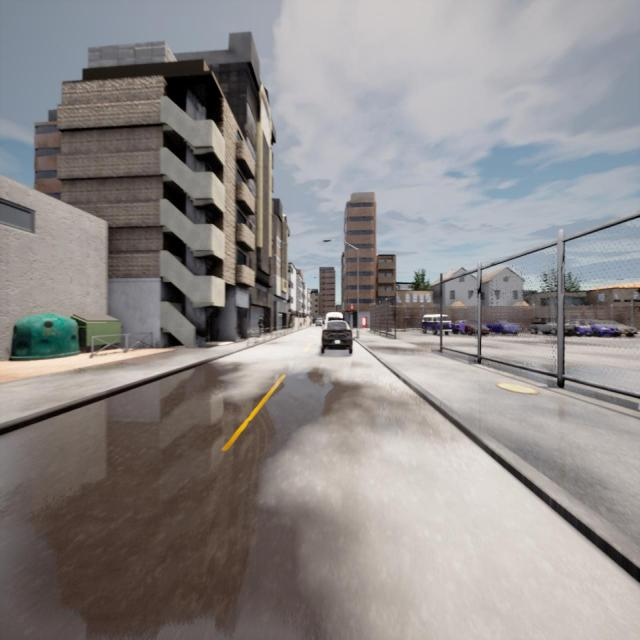Pedestrian: (258, 315, 264, 335)
Vehicle: (567, 318, 620, 337), (322, 321, 352, 353), (421, 315, 452, 334), (529, 316, 557, 334), (457, 320, 488, 335), (488, 321, 520, 334), (612, 322, 637, 337), (326, 312, 343, 320), (316, 317, 322, 327)
traffic_light: (351, 304, 354, 314)
